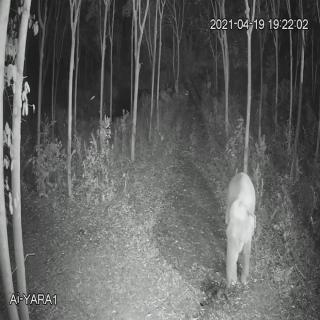Elephant: (222, 168, 260, 291)
